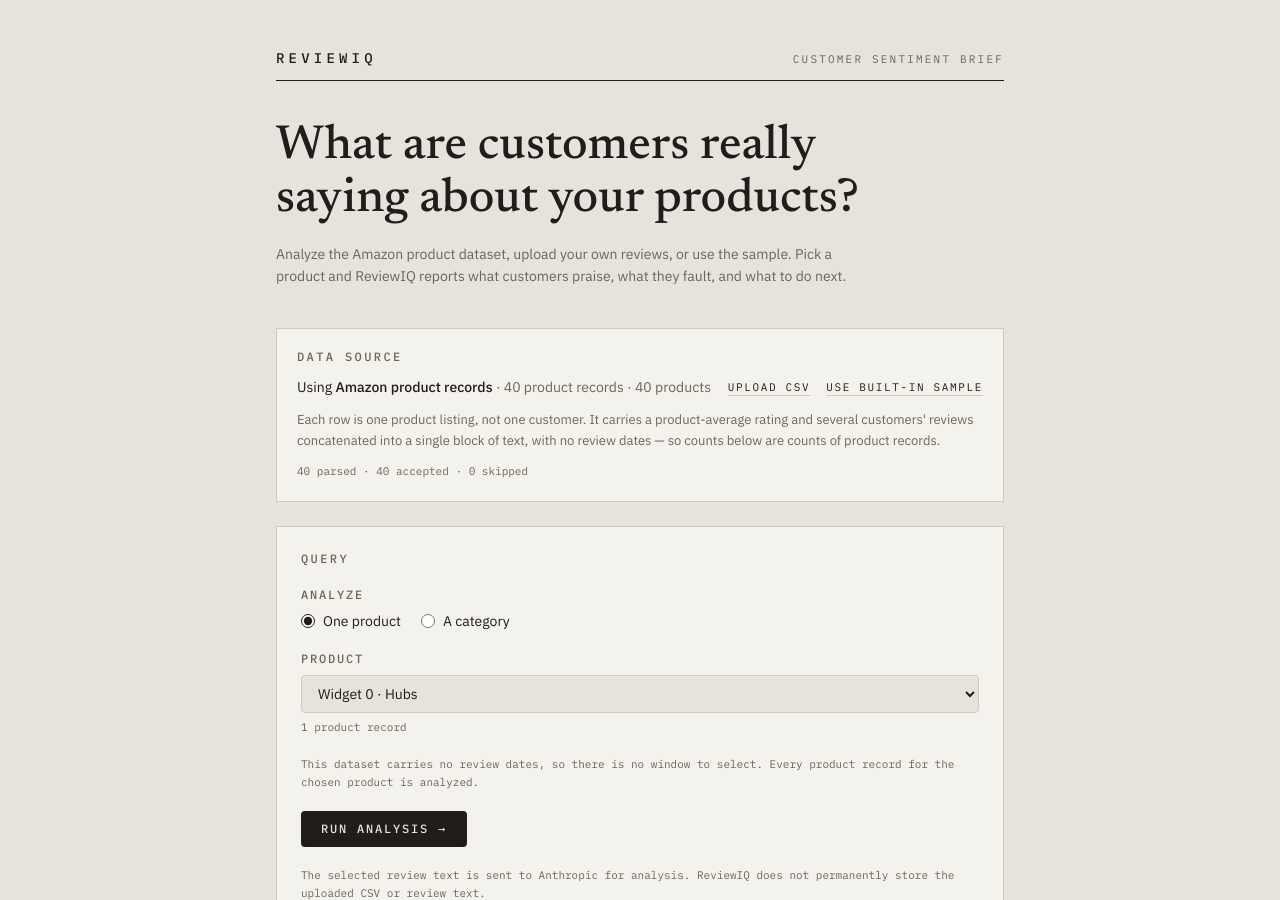
confirmation dialog › builds a fresh plan on the next attempt rather than reusing the declined one
The image size is (1280, 900).
Click the radio button labelled "A category".
click(428, 621)  # box [421, 614, 435, 628]
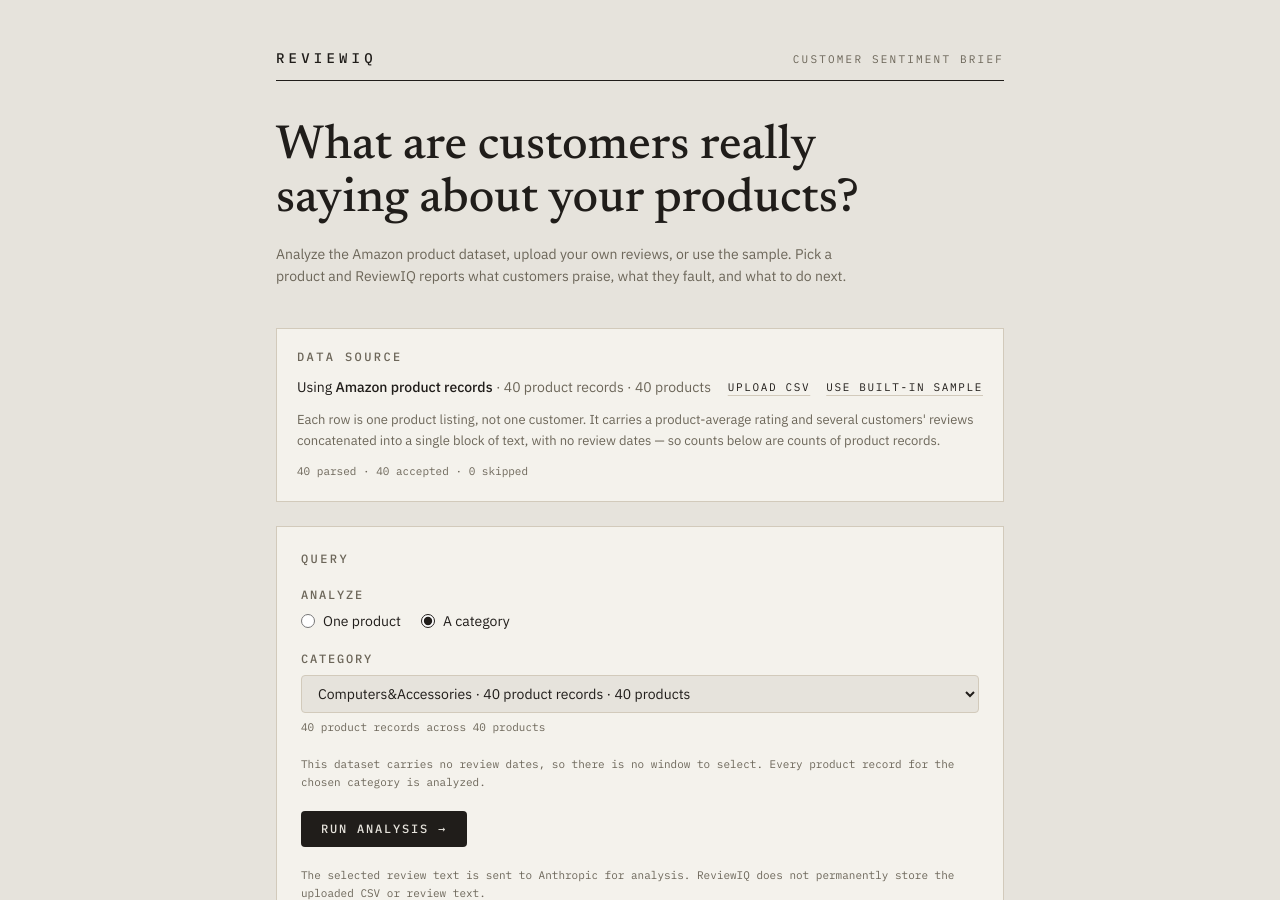
Click the submit button.
click(384, 830)  # box [301, 812, 467, 848]
(page scrolled)
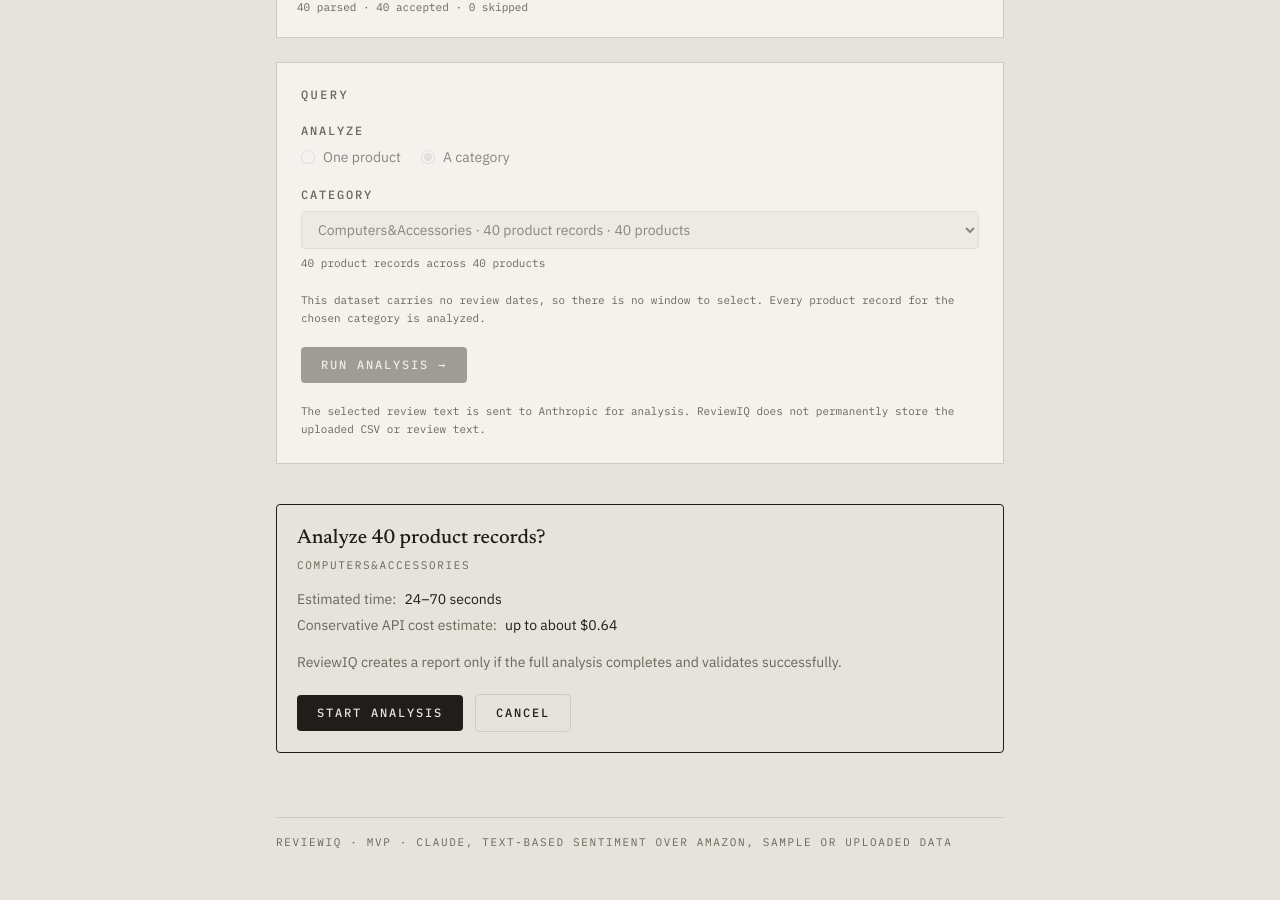
Result: the dialog is shown at [276, 504, 1004, 753]
Click the button "Cancel".
click(523, 713)  # box [475, 694, 571, 732]
(page scrolled)
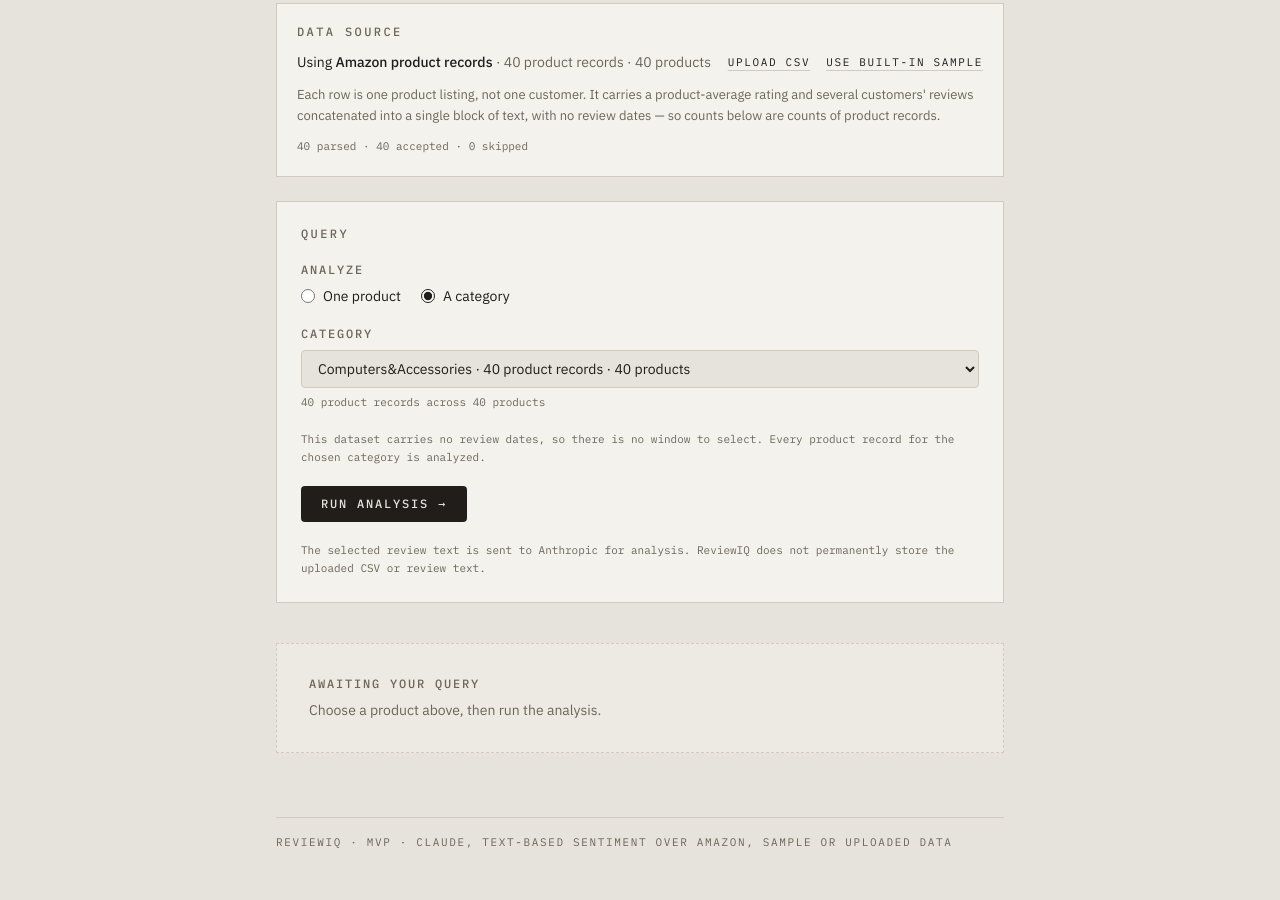
Result: the dialog is gone
Click the submit button.
click(384, 504)  # box [301, 486, 467, 522]
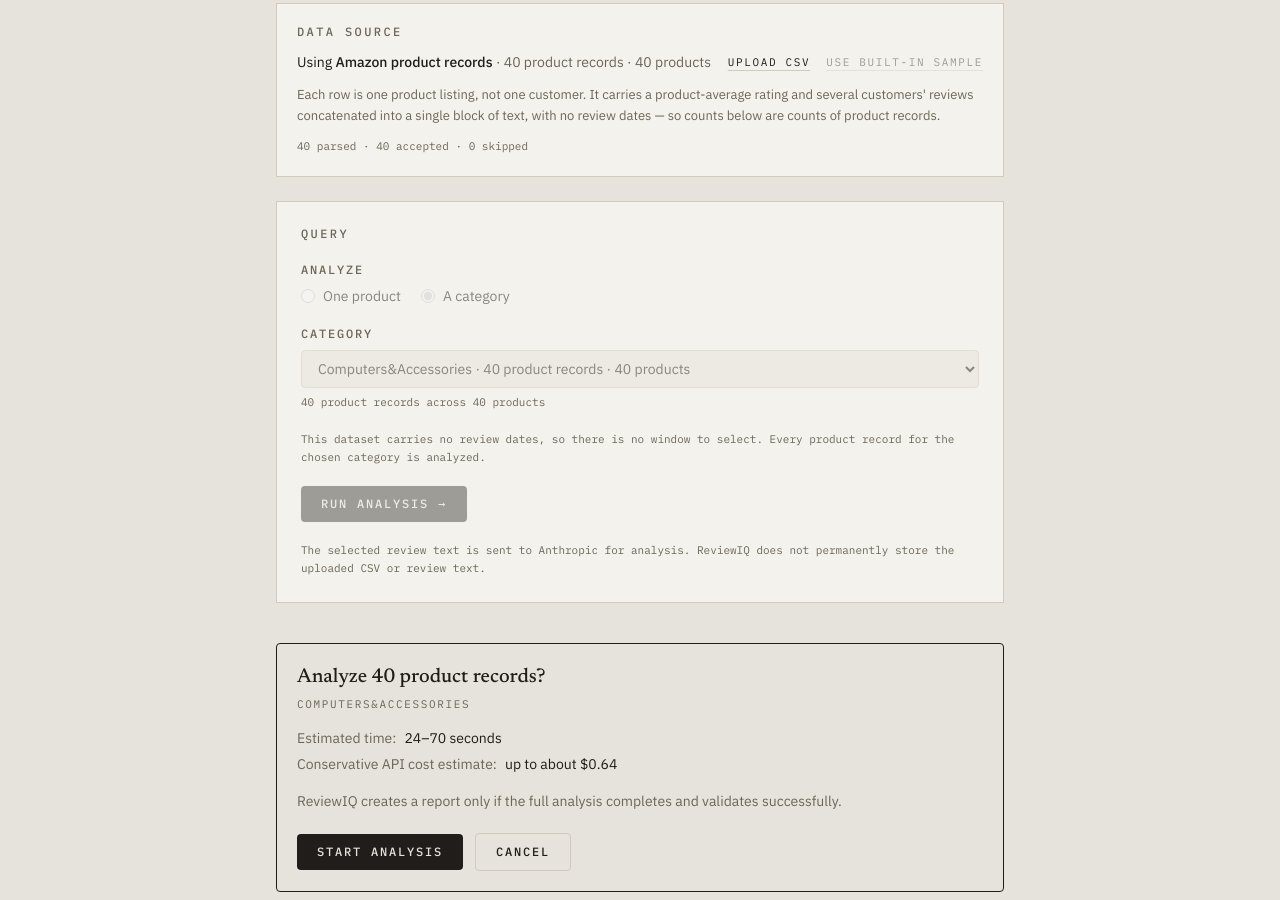
Result: the dialog is shown at [276, 643, 1004, 892]
Result: the heading "Analyze 40 product records?" is shown at [297, 667, 545, 687]
